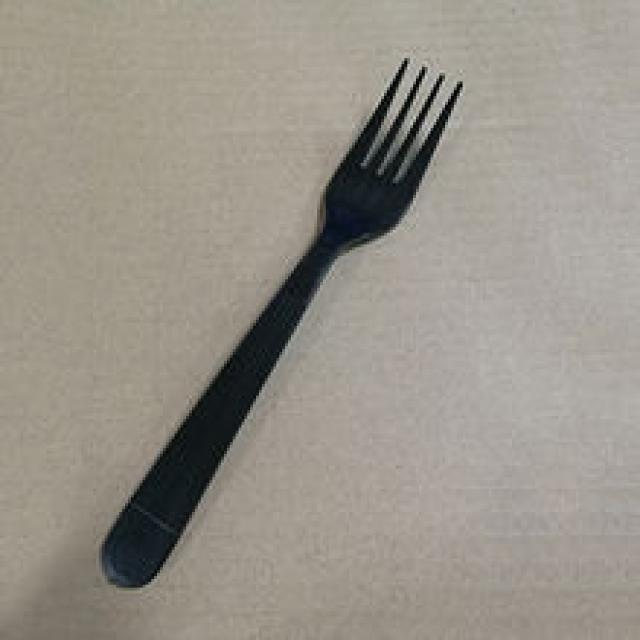spoon: (102, 59, 461, 586)
